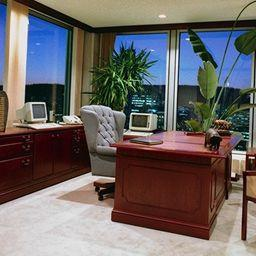Matera: (183, 19, 250, 184), (87, 42, 154, 182)
